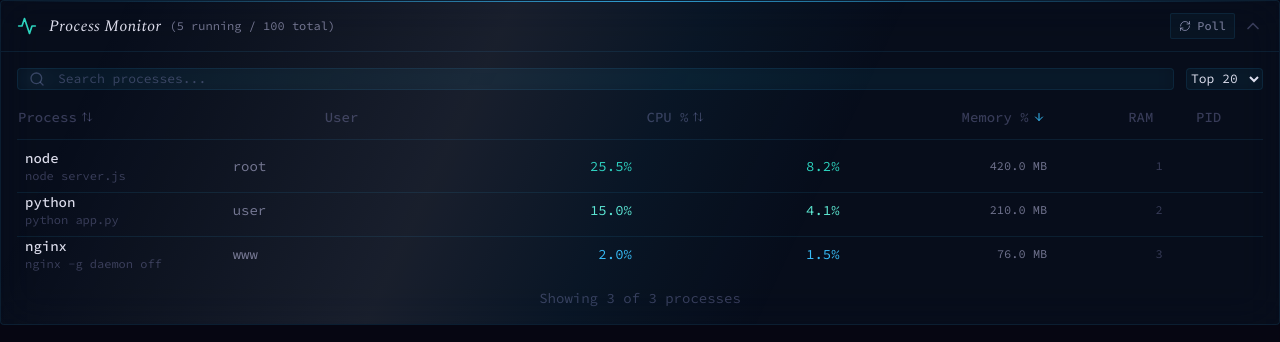
it: ProcessPanel › filters processes by search
Type "python" into the field with placeholder "Search processes..." at (596, 79), box [17,68,1174,90]
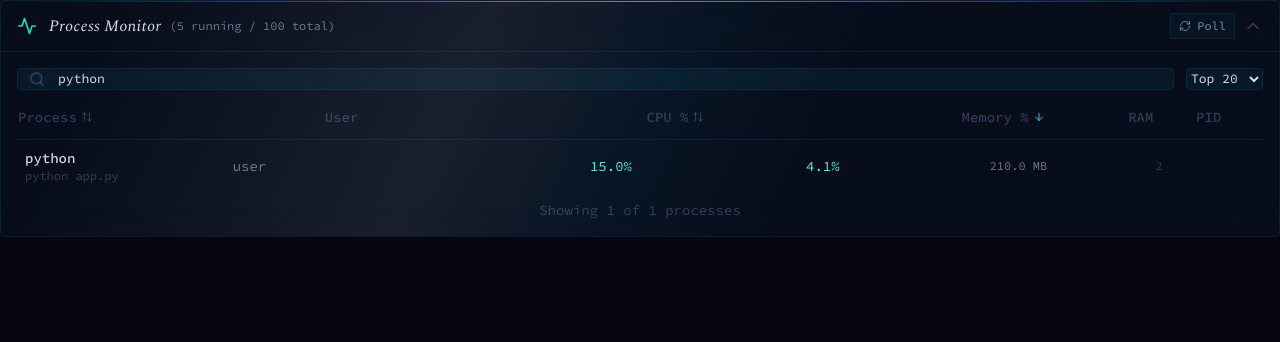
Expected: the text "python" is shown, [25,148,75,166]
Expected: the text "node" is gone
Expected: the text "nginx" is gone
